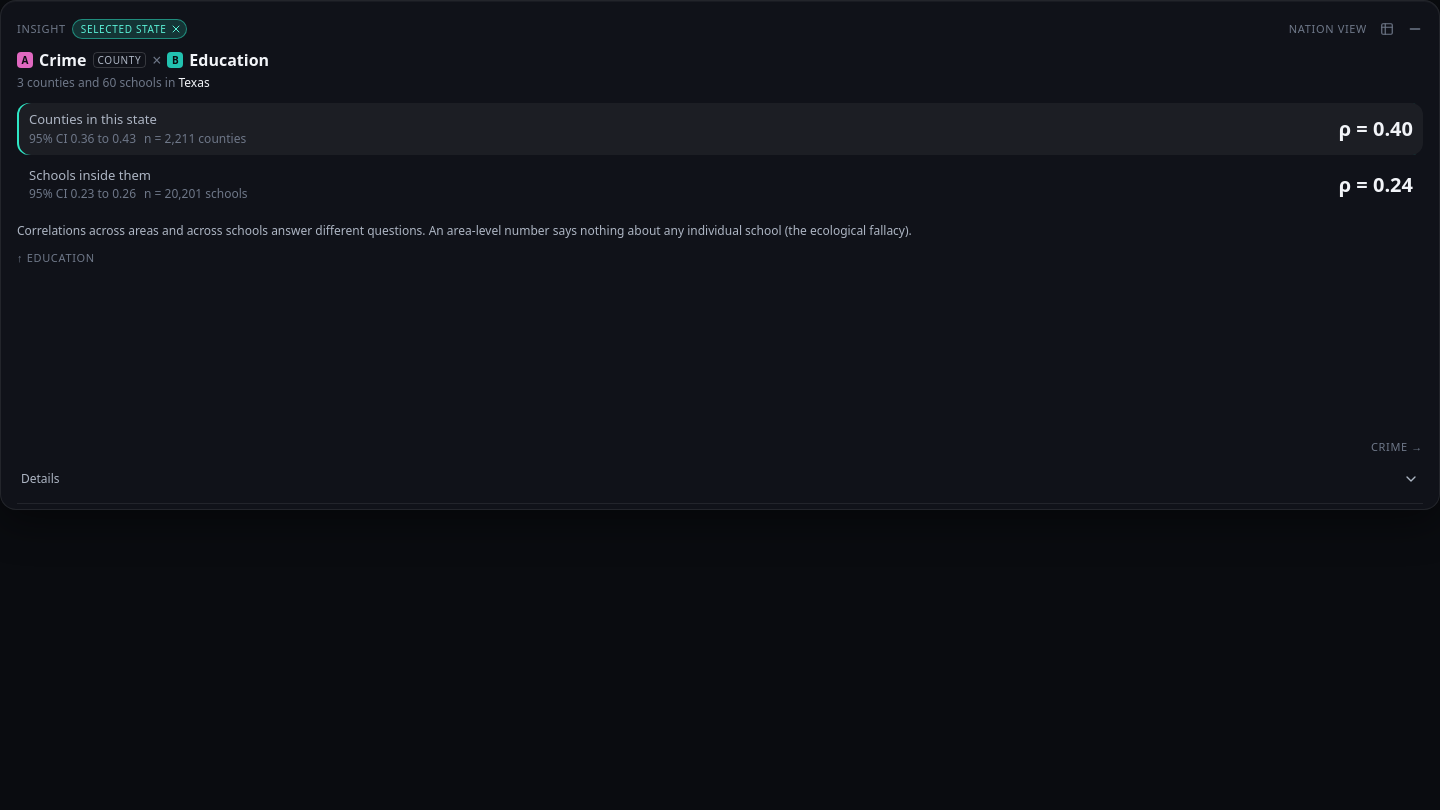
Test case: scope: a selected state or county (SPEC.md 3.7) › the data table lists the selected area's units
Click the button named "Data table".
click(1387, 29)  # box [1375,17,1399,41]
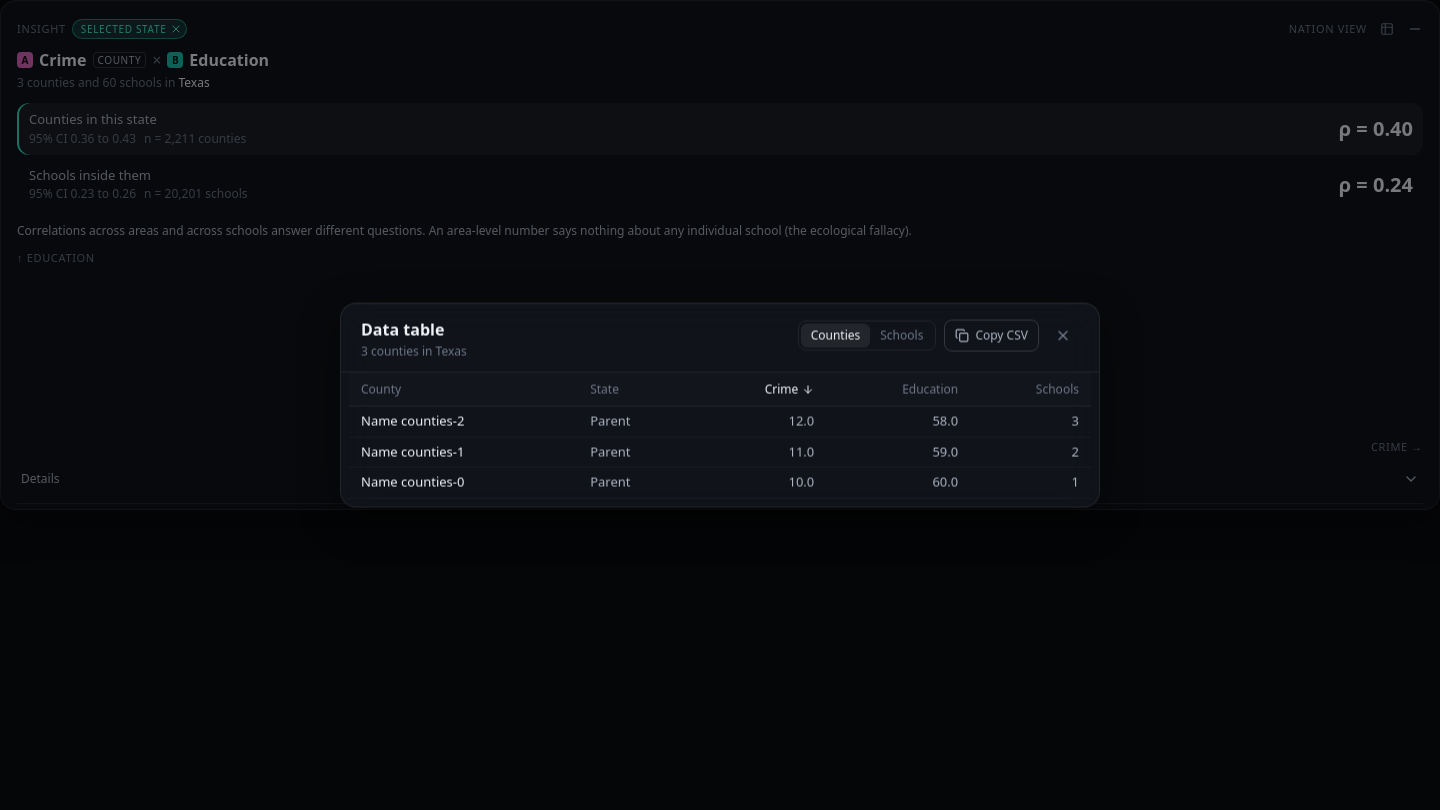
Now the dialog with test id "data-table" shows "3 counties in Texas", box [340,302,1100,508]
